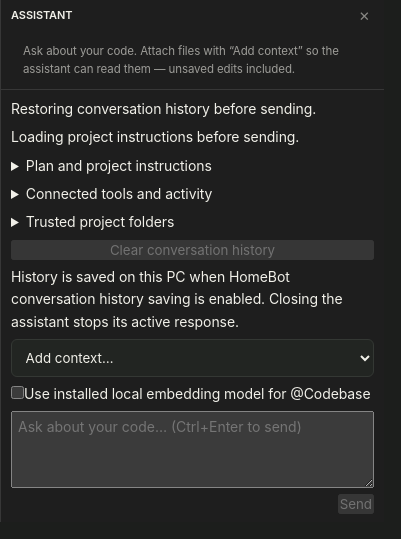
Scenario: IDE assistant lifecycle and approval controls › clear is unavailable while streaming and deletion failure retains the transcript
The width and height of the screenshot is (401, 539).
Type "keep my history" into the text box named "Ask the assistant" at (192, 450), box [11,411,374,488]
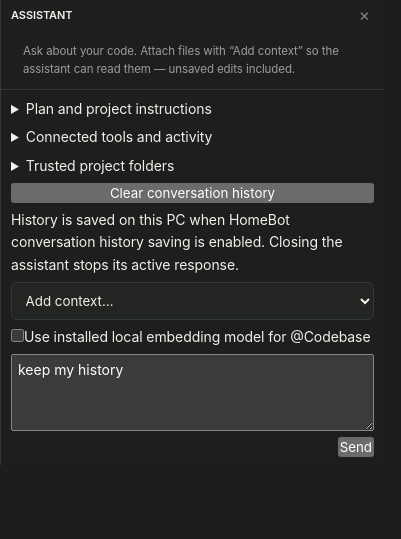
Check: the button "Send" is enabled
Click the button "Send" at (356, 447), box [338,437,374,457]
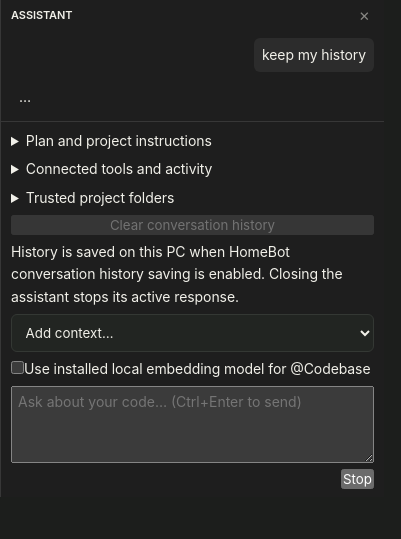
Check: the button "Clear conversation history" is disabled
Click the button "Clear conversation history" at (192, 225), box [11,215,374,235]
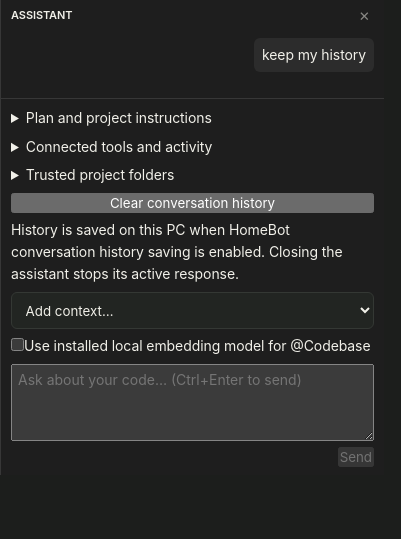
Click the button "Clear conversation history" at (192, 203), box [11,193,374,213]
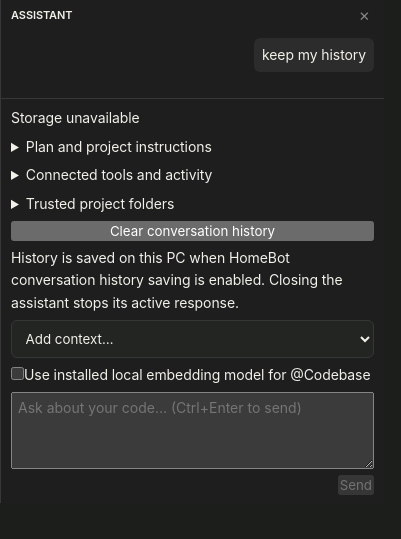
Check: the element showing "keep my history" is shown, box [254,38,374,72]
Check: the message reads "Storage unavailable", box [11,109,140,126]
